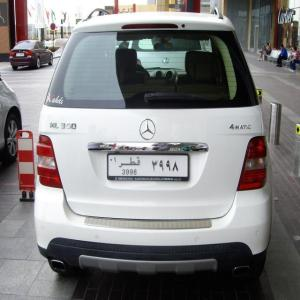Plate: (107, 152, 190, 183)
